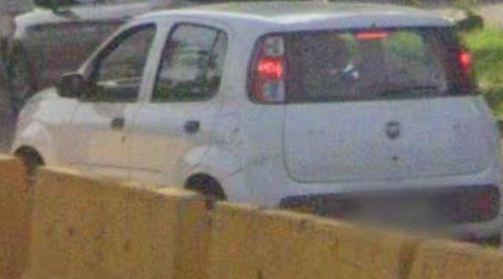car: (10, 7, 500, 210)
